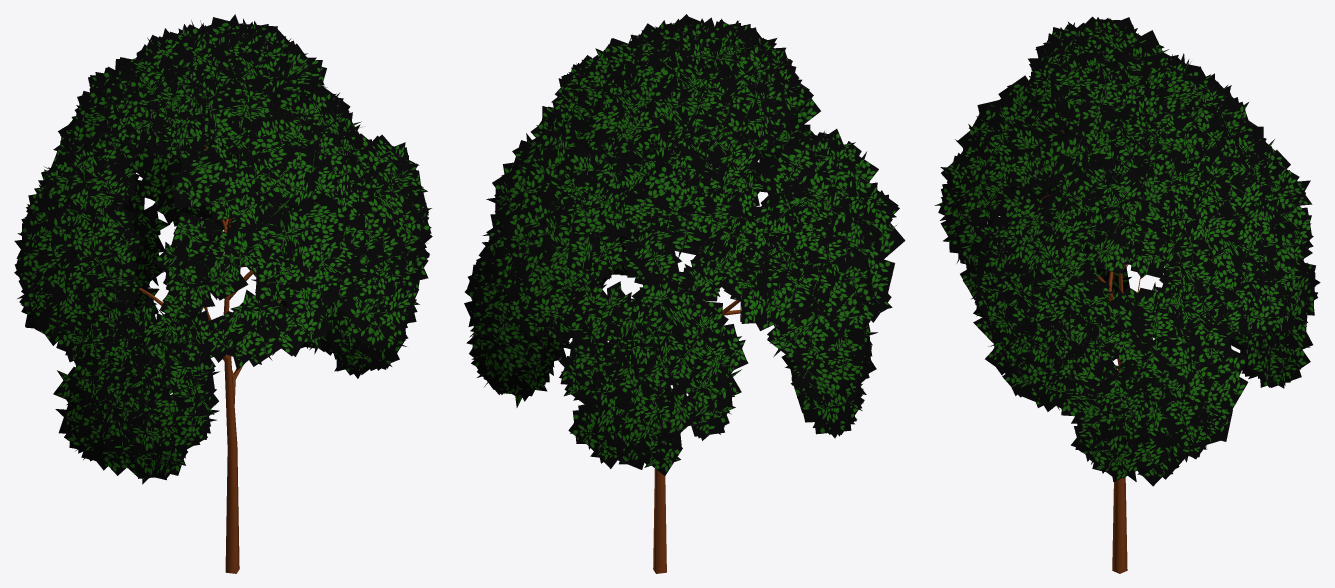
The model's file is Arbol3.fbx.
3 renders of one model, left to right at view 1: azimuth 30°, elevation 25°; view 2: azimuth 150°, elevation 25°; view 3: azimuth 270°, elevation 25°, orthographic. The views are drawn at different scales.
Visible parts, largest first — view 1: Leaves, Trunk; view 2: Leaves, Trunk; view 3: Leaves, Trunk.
Part boxes in pixels (x1,y1,x2,y2): Leaves: [14, 14, 432, 484]; Trunk: [138, 146, 283, 573]; Leaves: [464, 14, 905, 475]; Trunk: [543, 300, 740, 573]; Leaves: [934, 16, 1320, 486]; Trunk: [1039, 130, 1214, 573].
Bounding box in the file's own units: 558 × 764 × 509.
Materials: 2 (1 with a texture image).
